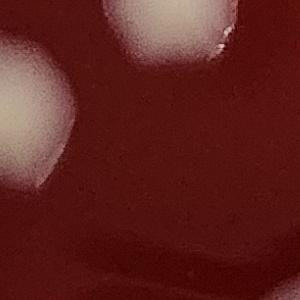colony: (0, 25, 83, 206), (95, 0, 247, 87), (245, 270, 300, 300)
